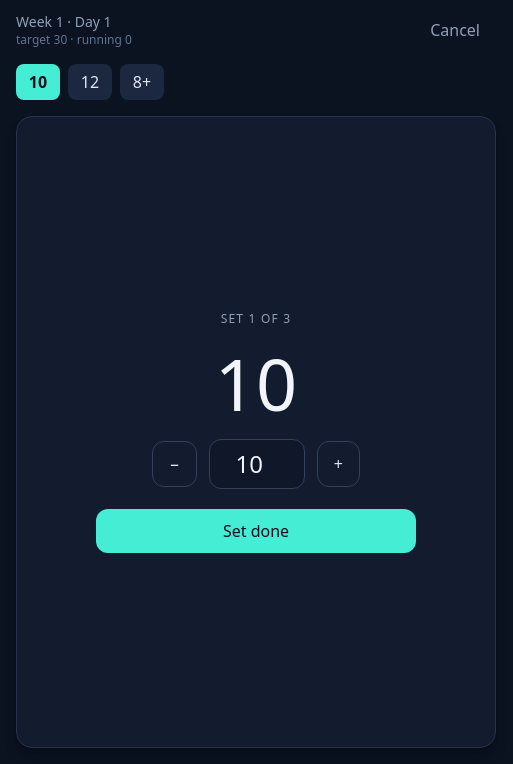
Test: the tab dies mid-workout › resumes a rest that is still running with the time that is genuinely left
Click the button "Set done". click: coordinates (256, 531)
box: [96,509,416,553]
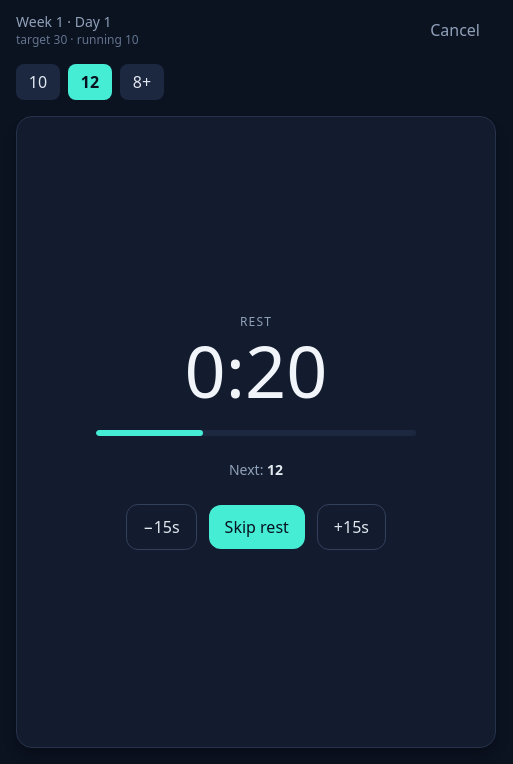
expect the text "0:20" is shown: met, box [185,334,328,406]
